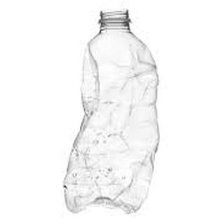bottle: (58, 6, 161, 218)
